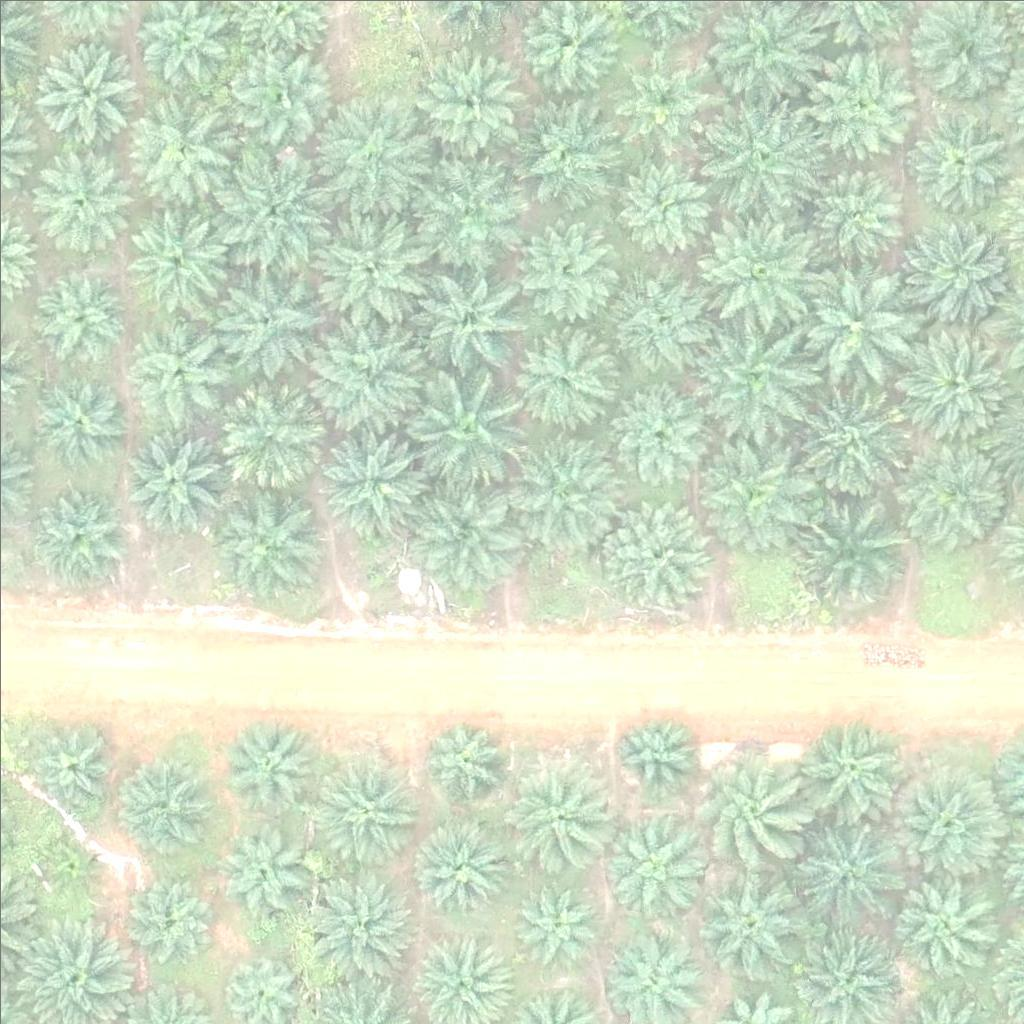Kelapa_Sawit: (684, 741, 809, 867), (210, 488, 323, 602), (312, 424, 425, 538), (312, 215, 425, 329), (413, 155, 526, 269), (696, 214, 809, 328), (799, 270, 912, 384), (127, 98, 240, 211), (218, 161, 331, 274), (214, 375, 327, 488), (316, 311, 429, 424), (319, 97, 432, 210), (406, 374, 519, 487), (508, 100, 621, 213), (599, 493, 712, 606), (701, 432, 814, 545), (810, 51, 923, 164), (898, 436, 1011, 549), (897, 332, 1010, 445), (904, 100, 1017, 213), (792, 816, 905, 929), (796, 709, 909, 822), (126, 308, 238, 422), (212, 264, 324, 378), (503, 435, 615, 549), (311, 752, 423, 866), (407, 36, 519, 149), (413, 261, 525, 374), (409, 473, 521, 586), (609, 265, 721, 378), (699, 317, 811, 430), (703, 97, 815, 210), (790, 496, 902, 609), (797, 385, 909, 498), (904, 207, 1016, 320), (300, 863, 412, 976), (496, 757, 608, 870), (697, 865, 809, 978), (888, 761, 1000, 874), (34, 42, 134, 143), (28, 483, 128, 584), (125, 425, 225, 526), (127, 205, 227, 306), (230, 48, 330, 149), (513, 332, 613, 433), (616, 159, 716, 260), (611, 391, 711, 492), (112, 752, 212, 853), (218, 708, 318, 809), (407, 817, 507, 918), (895, 871, 995, 972), (27, 149, 127, 249), (30, 265, 130, 365), (27, 370, 127, 470), (514, 222, 614, 322), (611, 53, 711, 153), (807, 164, 907, 264), (600, 810, 700, 910), (418, 707, 506, 795), (27, 723, 114, 812), (507, 878, 594, 967), (126, 874, 213, 962), (219, 828, 306, 916), (612, 707, 699, 795), (35, 831, 98, 894)
